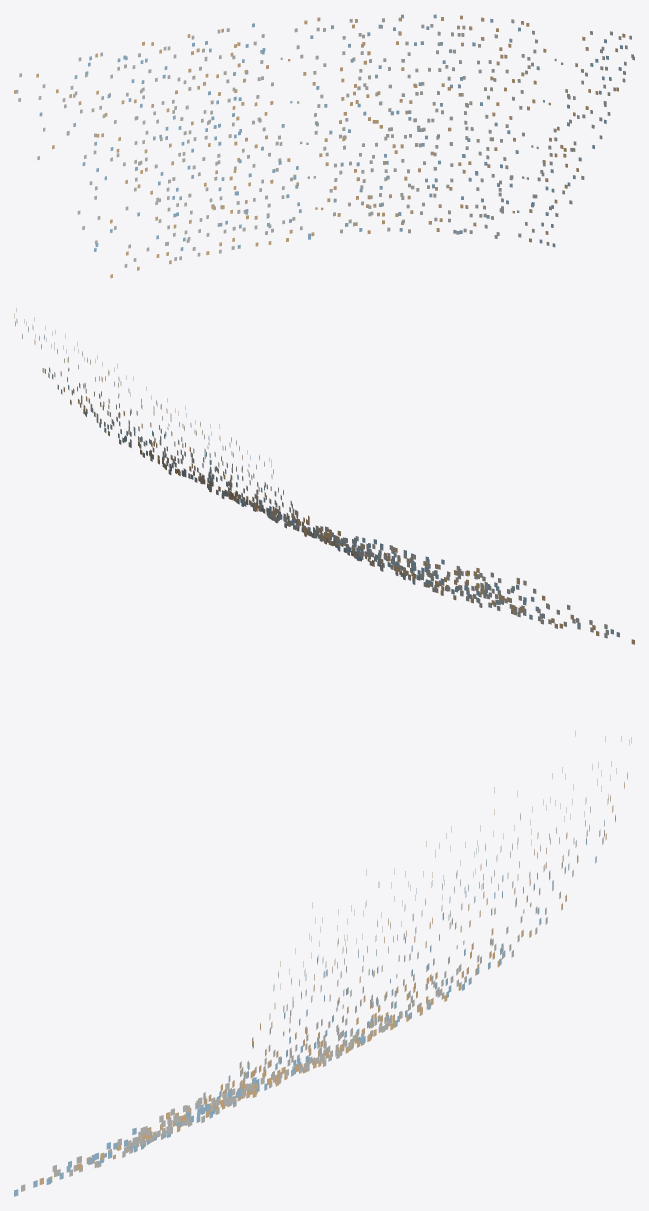
Rendered from UpperPhones2.obj.
3 renders of one model, top to bottom at view 1: azimuth 30°, elevation 25°; view 2: azimuth 150°, elevation 25°; view 3: azimuth 270°, elevation 25°, orthographic. The views are drawn at different scales.
Visible parts, largest first — view 1: UpperPhones2; view 2: UpperPhones2; view 3: UpperPhones2.
Boxes of the visible parts, x1,y1,x2,y2 form: UpperPhones2: [14, 14, 634, 278]; UpperPhones2: [14, 308, 634, 644]; UpperPhones2: [14, 730, 631, 1196].
Bounding box in the file's own units: 66.3 × 16.37 × 40.09.
Materials: 1 (1 with a texture image).
